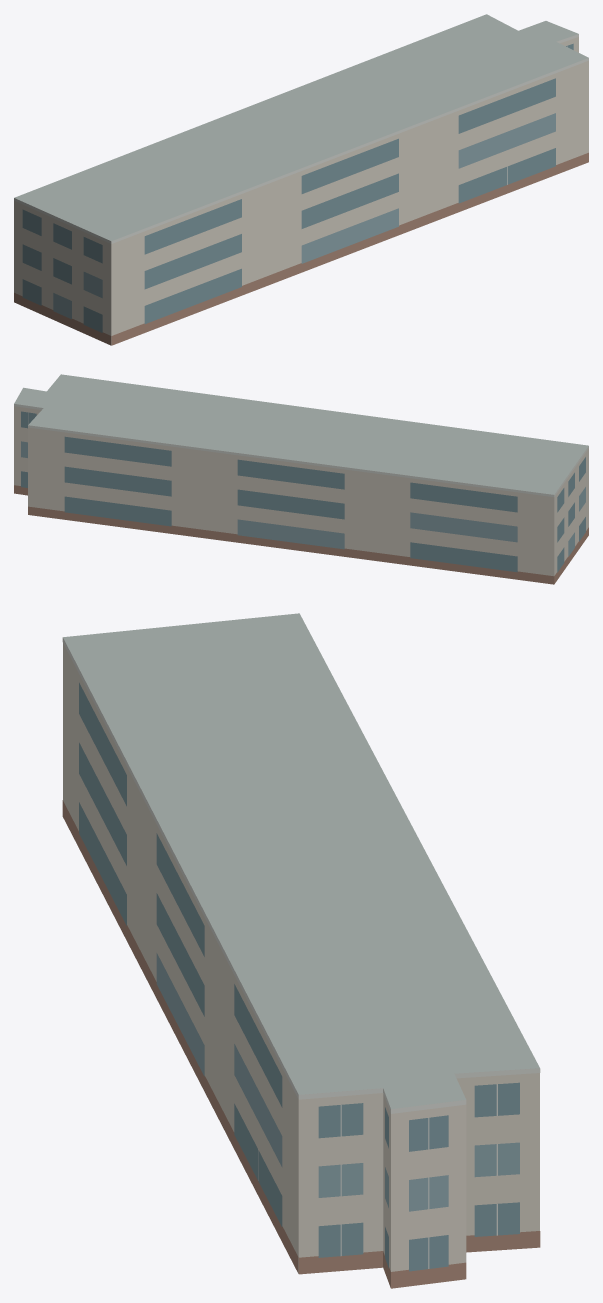
The model's file is survey-upis-32627496.glb.
The picture shows the model from 3 angles, top to bottom: view 1: azimuth 30°, elevation 25°; view 2: azimuth 150°, elevation 25°; view 3: azimuth 270°, elevation 25°; orthographic projection. The views are drawn at different scales.
Visible parts, largest first — view 1: survey-upis-32627496.tmp; view 2: survey-upis-32627496.tmp; view 3: survey-upis-32627496.tmp.
Part boxes in pixels (x1,y1,x2,y2): survey-upis-32627496.tmp: [14, 14, 588, 345]; survey-upis-32627496.tmp: [14, 374, 588, 584]; survey-upis-32627496.tmp: [62, 613, 540, 1288].
Bounding box in the file's own units: 54.24 × 9.15 × 22.07.
